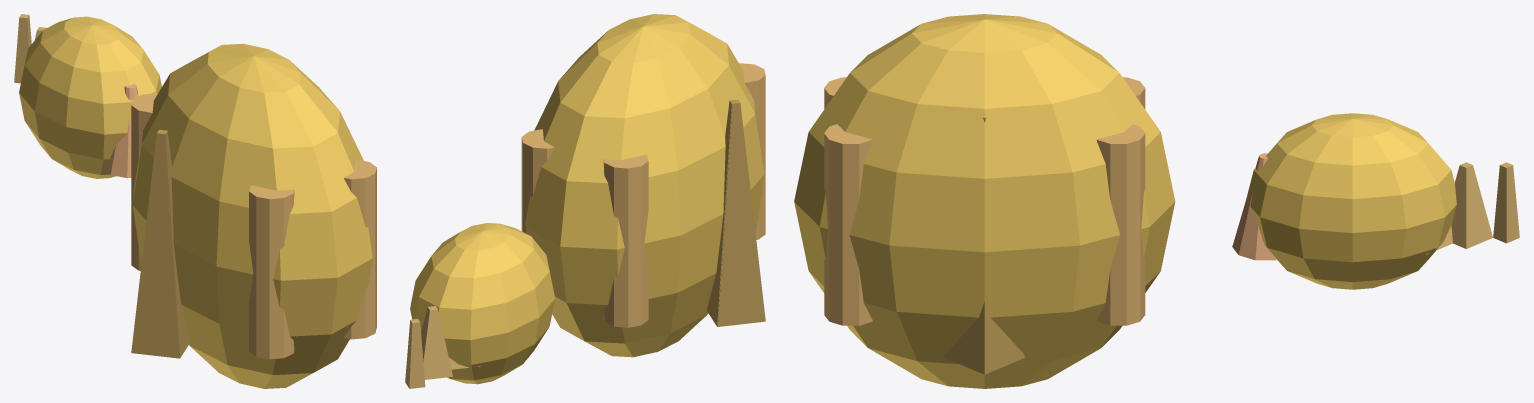
The model's file is animal_ayam.glb.
3 renders of one model, left to right at view 1: azimuth 30°, elevation 25°; view 2: azimuth 150°, elevation 25°; view 3: azimuth 270°, elevation 25°, orthographic. The views are drawn at different scales.
Visible parts, largest first — view 1: ayam_body.002, ayam_head.002, ayam_efektor_2.002, ayam_leg_BL.002, ayam_leg_BR.002, ayam_leg_FL.002, ayam_efektor_3.002, ayam_wattle.002, ayam_kempis_2.002; view 2: ayam_body.002, ayam_head.002, ayam_efektor_2.002, ayam_leg_FL.002, ayam_leg_FR.002, ayam_kempis_1.002, ayam_leg_BL.002, ayam_efektor_3.002, ayam_kempis_2.002; view 3: ayam_body.002, ayam_head.002, ayam_leg_FR.002, ayam_leg_BR.002, ayam_efektor_0.002, ayam_kempis_1.002, ayam_kempis_2.002, ayam_wattle.002.
Part boxes in pixels (x1,y1,x2,y2): ayam_body.002: (132, 43, 372, 388); ayam_head.002: (19, 16, 161, 178); ayam_efektor_2.002: (131, 130, 179, 358); ayam_leg_BL.002: (249, 185, 294, 359); ayam_leg_BR.002: (344, 159, 376, 339); ayam_leg_FL.002: (131, 93, 157, 270); ayam_efektor_3.002: (158, 130, 190, 357); ayam_wattle.002: (101, 84, 138, 178); ayam_kempis_2.002: (14, 14, 31, 83); ayam_body.002: (525, 14, 764, 357); ayam_head.002: (410, 223, 555, 384); ayam_efektor_2.002: (717, 99, 765, 326); ayam_leg_FL.002: (603, 154, 648, 327); ayam_leg_FR.002: (521, 129, 554, 306); ayam_kempis_1.002: (421, 306, 452, 379); ayam_leg_BL.002: (739, 63, 765, 239); ayam_efektor_3.002: (706, 99, 739, 326); ayam_kempis_2.002: (405, 319, 425, 388); ayam_body.002: (794, 14, 1175, 388); ayam_head.002: (1246, 113, 1456, 289); ayam_leg_FR.002: (1096, 124, 1145, 325); ayam_leg_BR.002: (824, 124, 872, 325); ayam_efektor_0.002: (944, 117, 1024, 374); ayam_kempis_1.002: (1451, 162, 1492, 248); ayam_kempis_2.002: (1493, 162, 1519, 243); ayam_wattle.002: (1232, 153, 1277, 260).
Size of the model in its own units: 0.4251 by 0.6 by 1.09.
